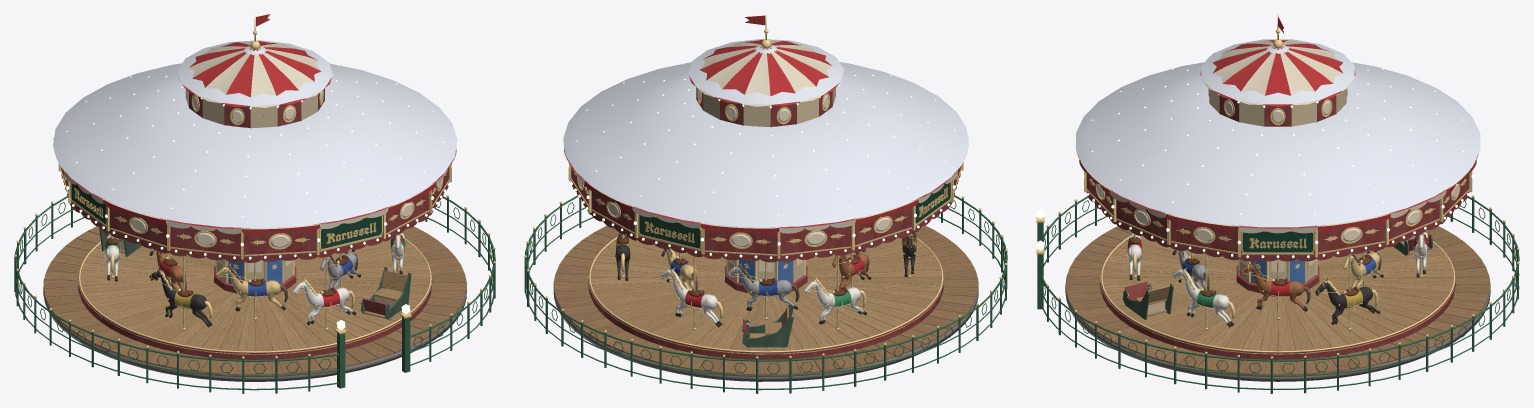
Rendered from carousel.glb.
3 renders of one model, left to right at view 1: azimuth 30°, elevation 25°; view 2: azimuth 150°, elevation 25°; view 3: azimuth 270°, elevation 25°, orthographic.
Visible parts, largest first — view 1: snow_canopy, car_floor, car_paint, car_step, car_canopy, car_rail, car_gilt, car_kerb, car_cartouche, car_mirror, h11_enamel, h10_enamel (+7 smaller); view 2: snow_canopy, car_floor, car_paint, car_step, car_canopy, car_rail, car_gilt, car_kerb, car_cartouche, car_mirror, h7_enamel, h6_enamel (+7 smaller); view 3: snow_canopy, car_floor, car_paint, car_step, car_canopy, car_rail, car_gilt, car_kerb, car_mirror, car_cartouche, h3_enamel, h2_enamel (+7 smaller).
Part boxes in pixels (x1=…): snow_canopy: x1=53, y1=40, x2=457, y2=228; car_floor: x1=80, y1=232, x2=429, y2=351; car_paint: x1=60, y1=88, x2=449, y2=359; car_step: x1=44, y1=226, x2=466, y2=375; car_canopy: x1=53, y1=14, x2=456, y2=234; car_rail: x1=14, y1=196, x2=495, y2=393; car_gilt: x1=53, y1=15, x2=456, y2=352; car_kerb: x1=43, y1=273, x2=466, y2=381; car_cartouche: x1=71, y1=183, x2=381, y2=248; car_mirror: x1=64, y1=90, x2=442, y2=271; h11_enamel: x1=215, y1=263, x2=288, y2=311; h10_enamel: x1=149, y1=268, x2=212, y2=327; snow_canopy: x1=563, y1=39, x2=969, y2=227; car_floor: x1=590, y1=237, x2=941, y2=351; car_paint: x1=570, y1=87, x2=961, y2=359; car_step: x1=554, y1=225, x2=978, y2=375; car_canopy: x1=564, y1=15, x2=967, y2=233; car_rail: x1=524, y1=195, x2=1007, y2=393; car_gilt: x1=564, y1=14, x2=968, y2=352; car_kerb: x1=553, y1=273, x2=978, y2=381; car_cartouche: x1=639, y1=182, x2=950, y2=248; car_mirror: x1=578, y1=89, x2=957, y2=271; h7_enamel: x1=726, y1=263, x2=799, y2=310; h6_enamel: x1=660, y1=267, x2=722, y2=327; snow_canopy: x1=1076, y1=39, x2=1480, y2=227; car_floor: x1=1102, y1=235, x2=1453, y2=351; car_paint: x1=1086, y1=89, x2=1469, y2=359; car_step: x1=1066, y1=226, x2=1490, y2=375; car_canopy: x1=1077, y1=16, x2=1478, y2=233; car_rail: x1=1037, y1=196, x2=1519, y2=393; car_gilt: x1=1079, y1=14, x2=1476, y2=352; car_kerb: x1=1065, y1=276, x2=1490, y2=381; car_mirror: x1=1096, y1=88, x2=1459, y2=271; car_cartouche: x1=1242, y1=231, x2=1313, y2=252; h3_enamel: x1=1239, y1=261, x2=1310, y2=311; h2_enamel: x1=1172, y1=267, x2=1234, y2=327.
Bounding box in the file's own units: 12.67 × 8.03 × 12.66.
Materials: 11 (3 with a texture image).
